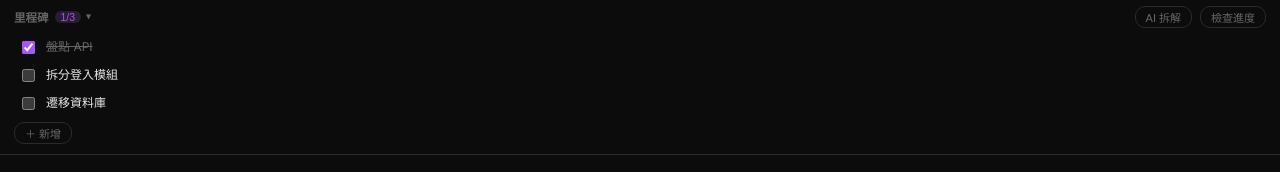
it: MilestoneList – manual editing › can be collapsed
This screenshot has width=1280, height=172.
Step 1. Click the button "里程碑 1/3 ▸" → [53, 17], box [14, 7, 92, 27]
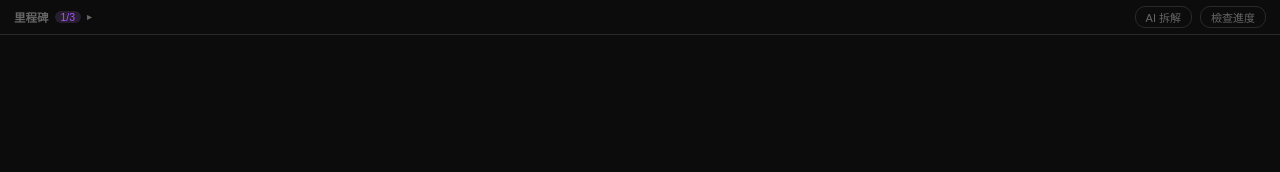
Now the button "里程碑 1/3 ▸" is collapsed, box [14, 7, 92, 27]
Now the text "盤點 API" is gone
